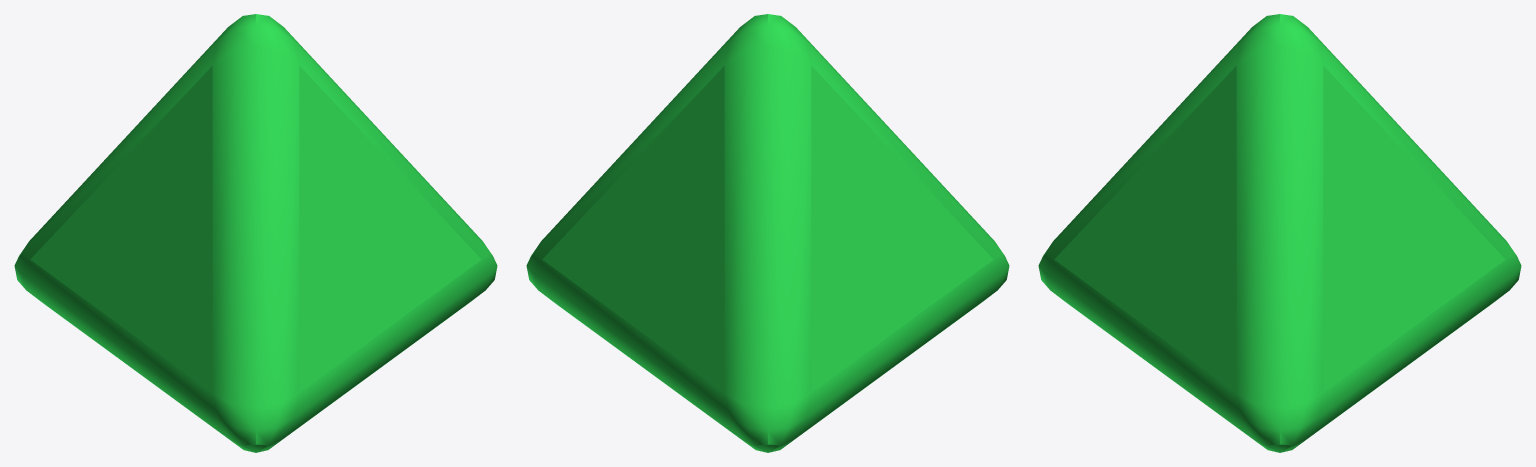
3 views of the same model, side by side, from view 1: azimuth 30°, elevation 25°; view 2: azimuth 150°, elevation 25°; view 3: azimuth 270°, elevation 25° (orthographic).
Visible parts, largest first — view 1: Pyramid; view 2: Pyramid; view 3: Pyramid.
Boxes of the visible parts, left/top/right/bottom form: Pyramid: left=14, top=14, right=497, bottom=452; Pyramid: left=526, top=14, right=1009, bottom=452; Pyramid: left=1038, top=14, right=1521, bottom=452.
Size of the model in its own units: 12.55 by 10.89 by 13.99.
